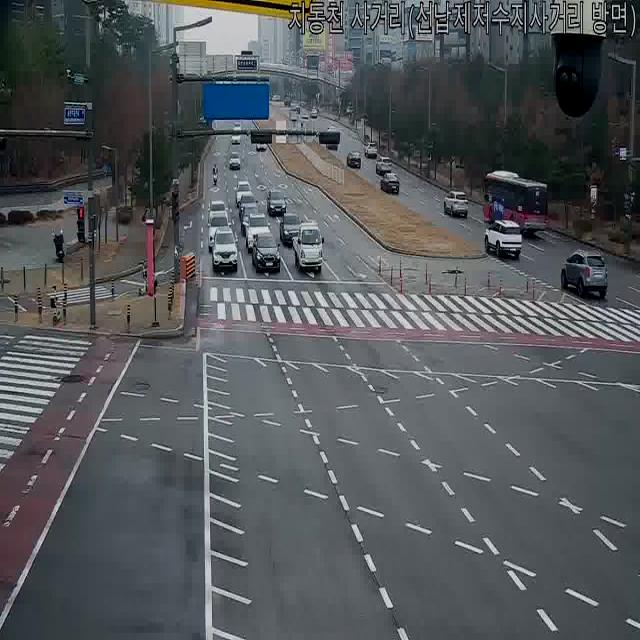Bus: (481, 169, 551, 238)
Car: (561, 249, 608, 299), (484, 218, 522, 258), (210, 228, 238, 274), (251, 233, 281, 274), (244, 214, 272, 252), (206, 213, 232, 250), (279, 212, 305, 246), (444, 190, 469, 218), (266, 189, 288, 217), (240, 207, 262, 235), (238, 193, 258, 221), (208, 199, 228, 226), (235, 180, 253, 208), (380, 172, 400, 195), (375, 156, 393, 176), (346, 150, 362, 168), (364, 140, 378, 158), (229, 152, 241, 170), (230, 129, 242, 145), (289, 105, 299, 122), (255, 139, 267, 153), (309, 107, 317, 119), (273, 94, 281, 104)
Motorcycle: (212, 164, 218, 189)
Truck: (293, 221, 325, 273)
